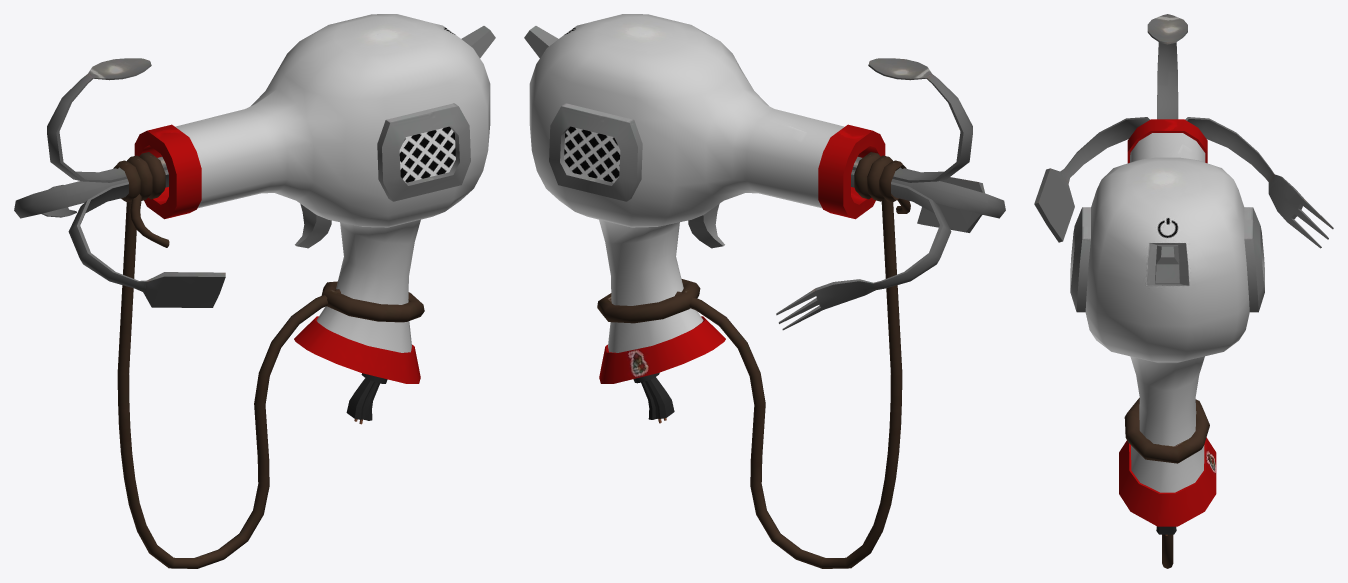
The model's file is weap_hook.glb.
3 renders of one model, left to right at view 1: azimuth 30°, elevation 25°; view 2: azimuth 150°, elevation 25°; view 3: azimuth 270°, elevation 25°, orthographic. The views are drawn at different scales.
Parts seen in each view (by area): view 1: model; view 2: model; view 3: model.
Boxes of the visible parts, <box> form: model: <box>14,14,495,568</box>; model: <box>524,14,1005,568</box>; model: <box>1034,14,1333,568</box>.
Size of the model in its own units: 0.5379 by 0.6 by 0.3283.
2 materials, 2 textured.
